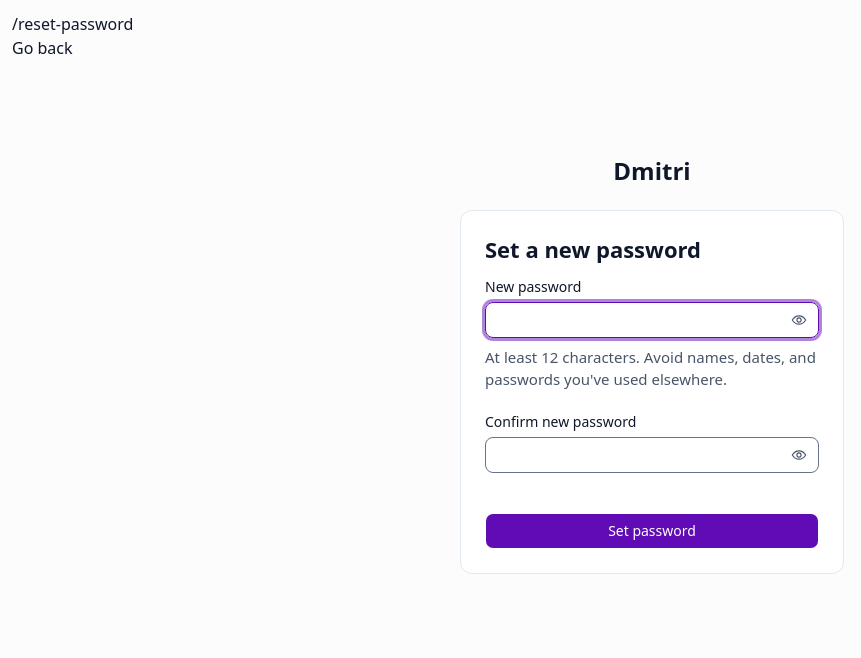
Scenario: ResetPassword › keeps the form and shows the policy error beside New password on 400
In the password field labelled "New password": (652, 320) top-left (485, 302), bottom-right (819, 338), type "a-long-enough-password"
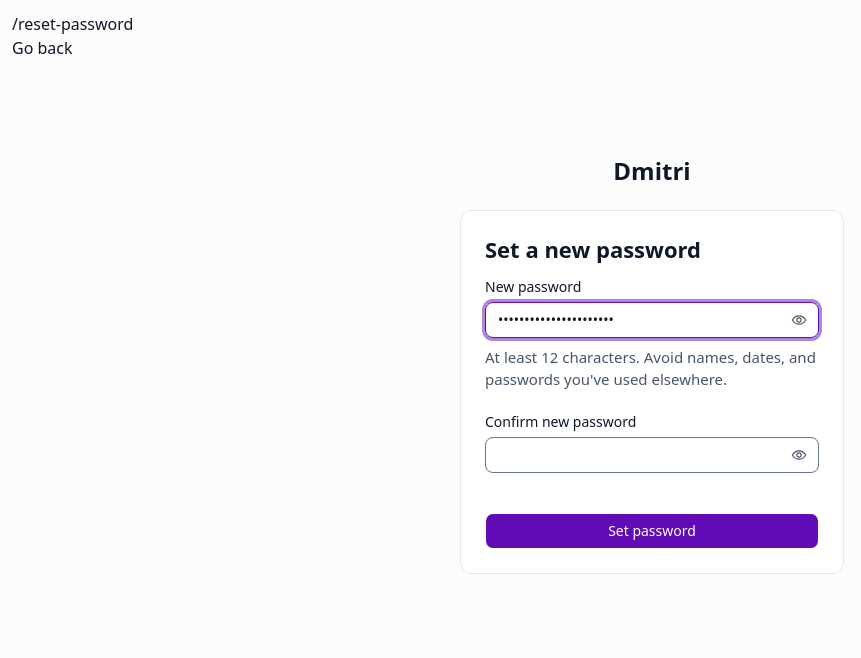
In the password field labelled "Confirm new password": (652, 455) top-left (485, 437), bottom-right (819, 473), type "a-long-enough-password"
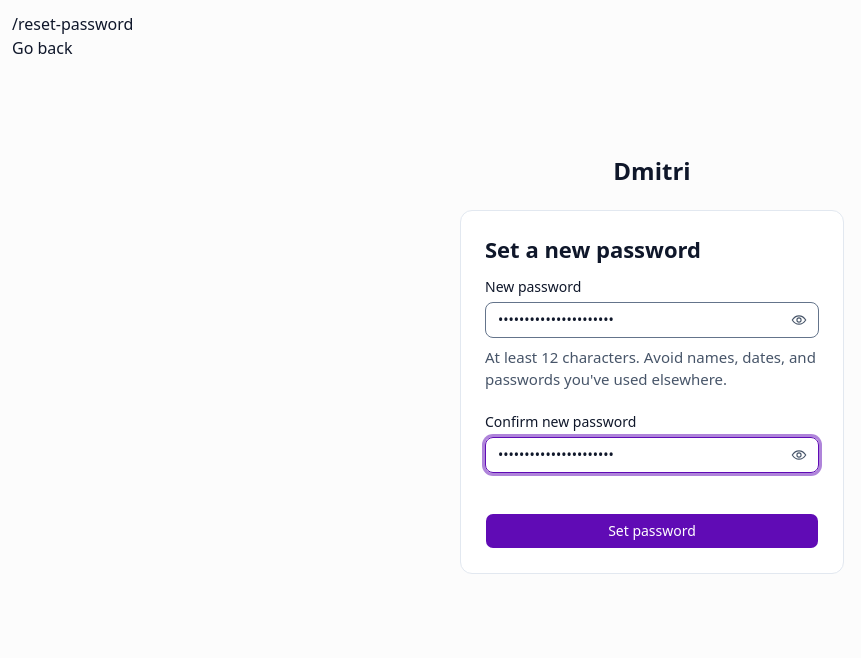
Click the button with test id "reset-submit": (652, 531) top-left (485, 513), bottom-right (819, 549)
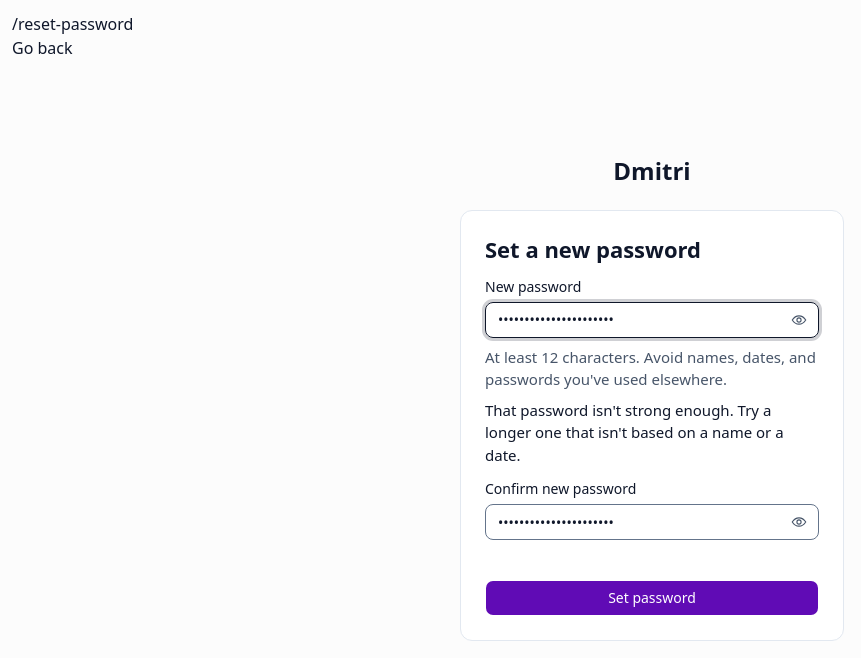
Expected: the form with test id "reset-form" is shown, top-left (485, 235), bottom-right (819, 616)
Now the message with test id "reset-password-error" shows "That password isn't strong enough. Try a longer one that isn't based on a name or a date.", box top-left (485, 400), bottom-right (784, 465)
